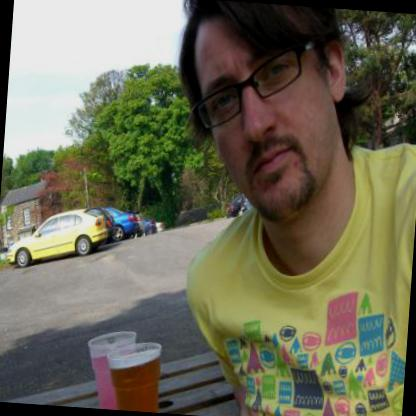car: (14, 204, 121, 270), (107, 206, 140, 242), (92, 208, 119, 245), (223, 192, 250, 220), (132, 212, 145, 238), (143, 218, 158, 236), (150, 219, 162, 232)
